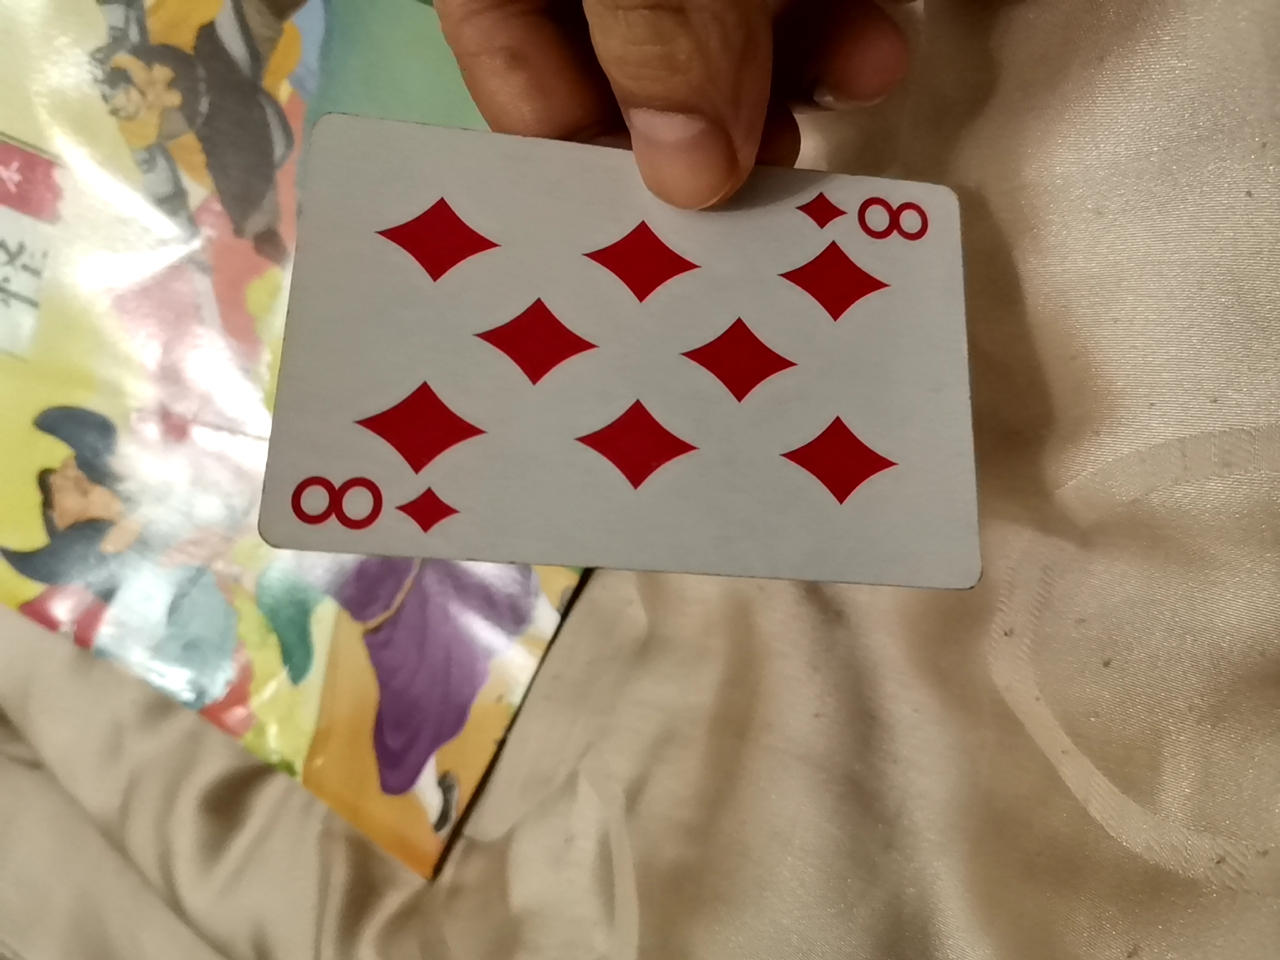fk 8: (290, 136, 972, 581)
